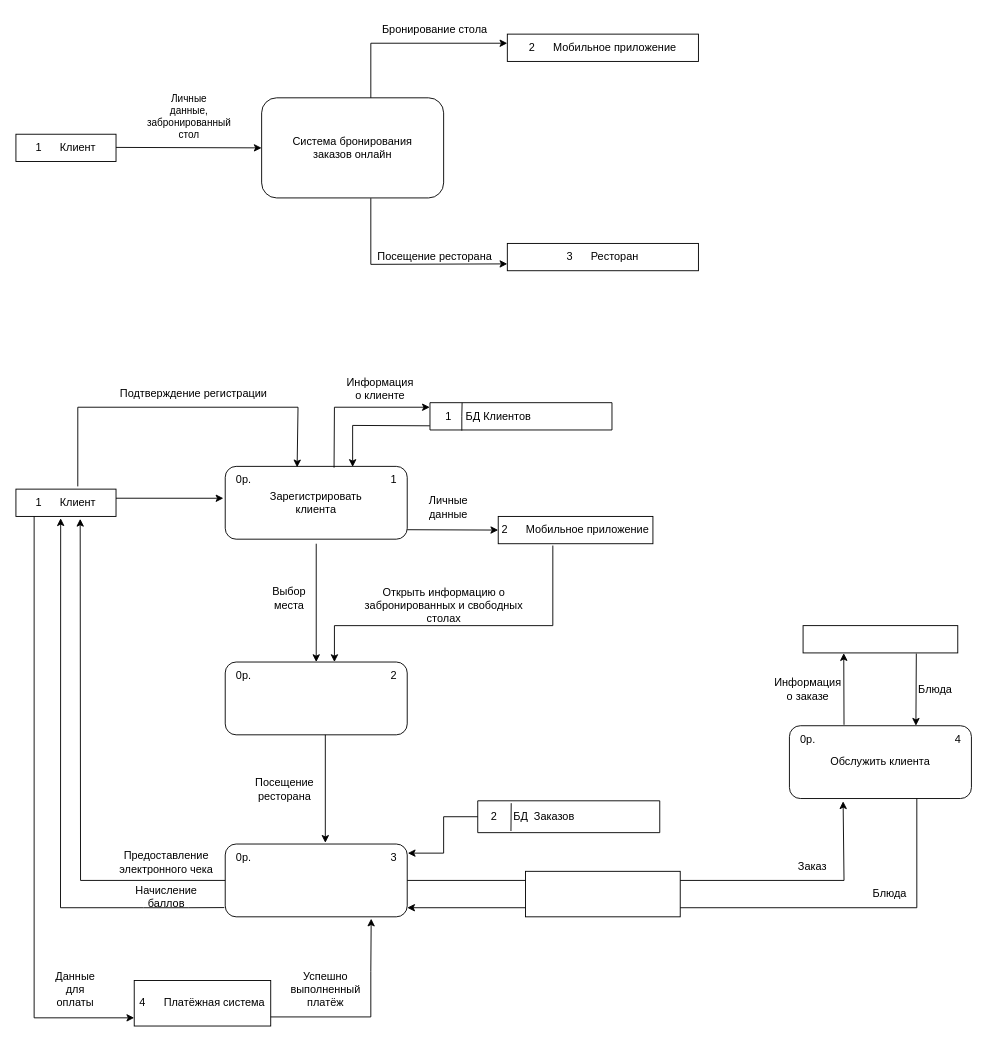
Image size: 987x1042. Some labels were removed from this diagram. Here are the shapes that lost their labels. From the top down, the box of each, then its label:
(802, 625, 958, 653): 4 Кухня
(224, 661, 407, 735): Выбрать место для бронирования
(224, 843, 407, 917): Посетить ресторан
(525, 870, 680, 917): 3 Официант
